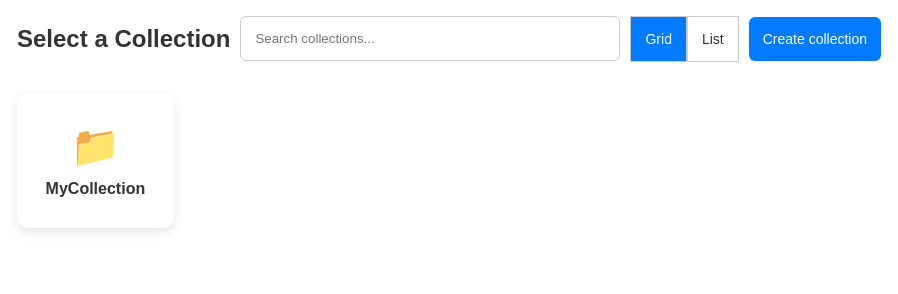
Scenario: FilesList › selecting a collection fetches files and role
Step 1. Click the text "MyCollection" → (95, 189), box [46,180,145,198]
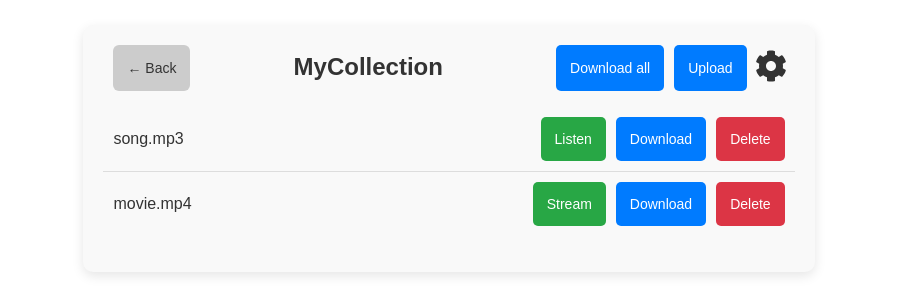
Now the text "song.mp3" is shown, box [113,130,184,148]
Now the text "movie.mp4" is shown, box [113,195,192,213]
